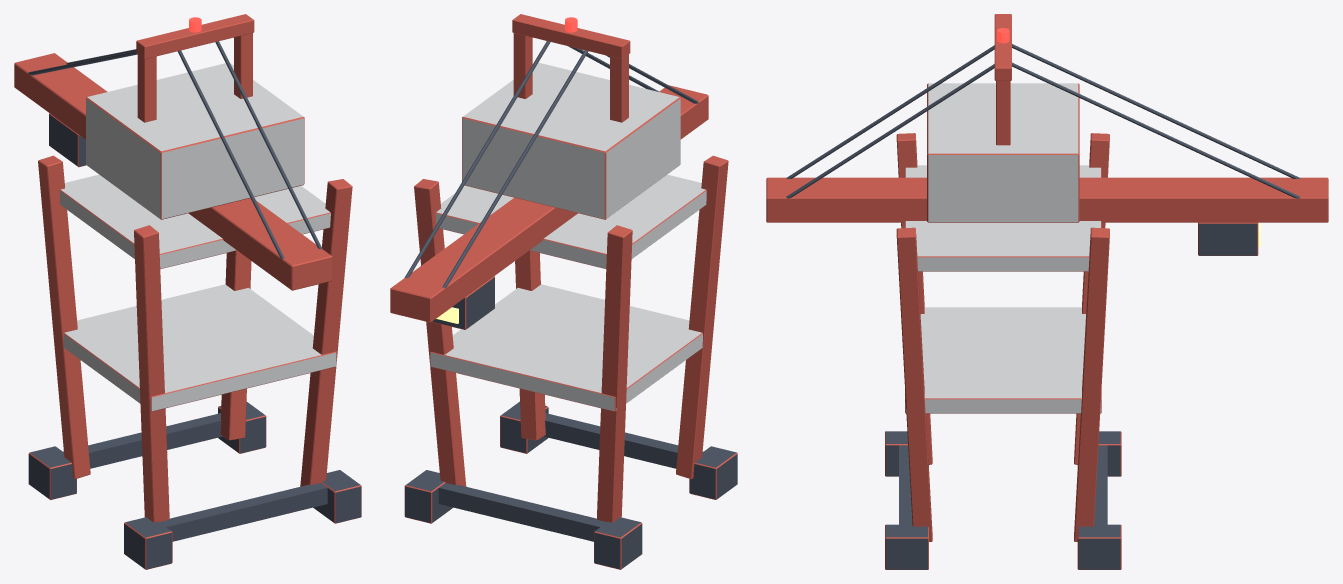
The model's file is port_gantry_crane.glb.
3 renders of one model, left to right at view 1: azimuth 30°, elevation 25°; view 2: azimuth 150°, elevation 25°; view 3: azimuth 270°, elevation 25°, orthographic.
Parts seen in each view (by area): view 1: PortGantryCrane; view 2: PortGantryCrane; view 3: PortGantryCrane.
Part boxes in pixels (x1=…): PortGantryCrane: x1=14, y1=14, x2=361, y2=569; PortGantryCrane: x1=390, y1=14, x2=737, y2=569; PortGantryCrane: x1=766, y1=14, x2=1328, y2=569.
Bounding box in the file's own units: 12.6 × 26.73 × 28.
